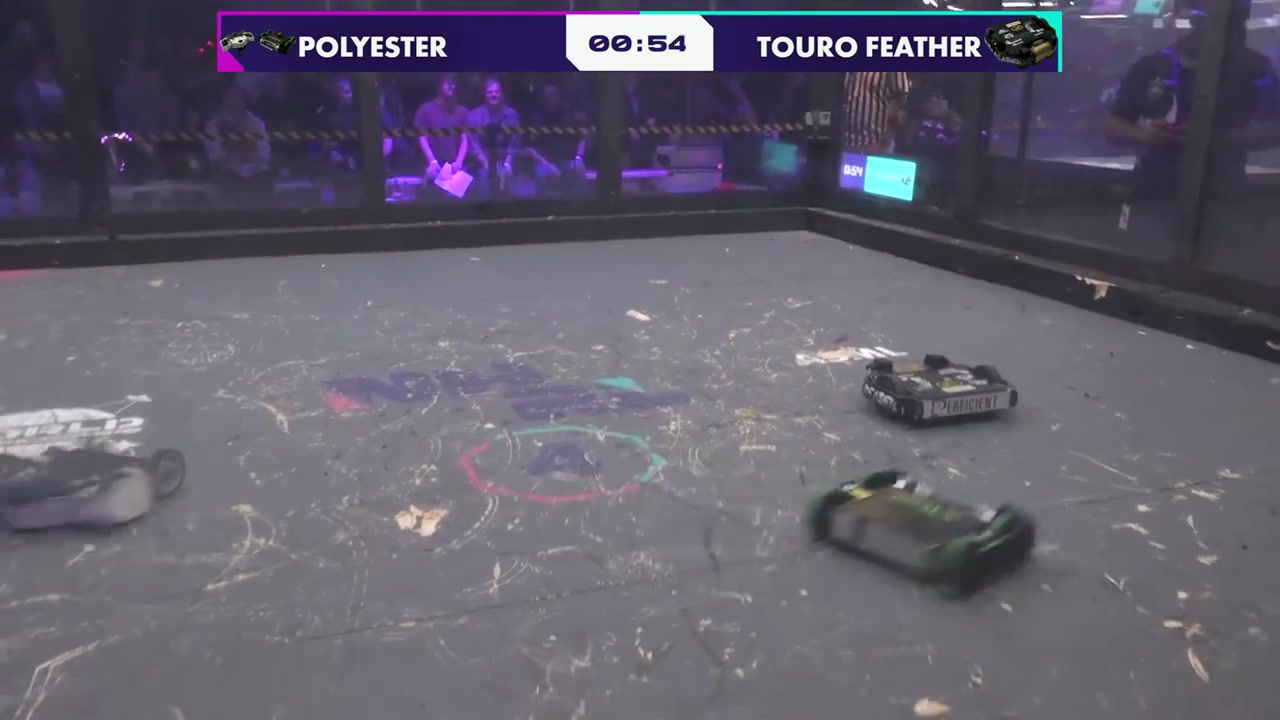combatbot: (808, 471, 1036, 594), (0, 449, 184, 528), (863, 354, 1017, 426)
